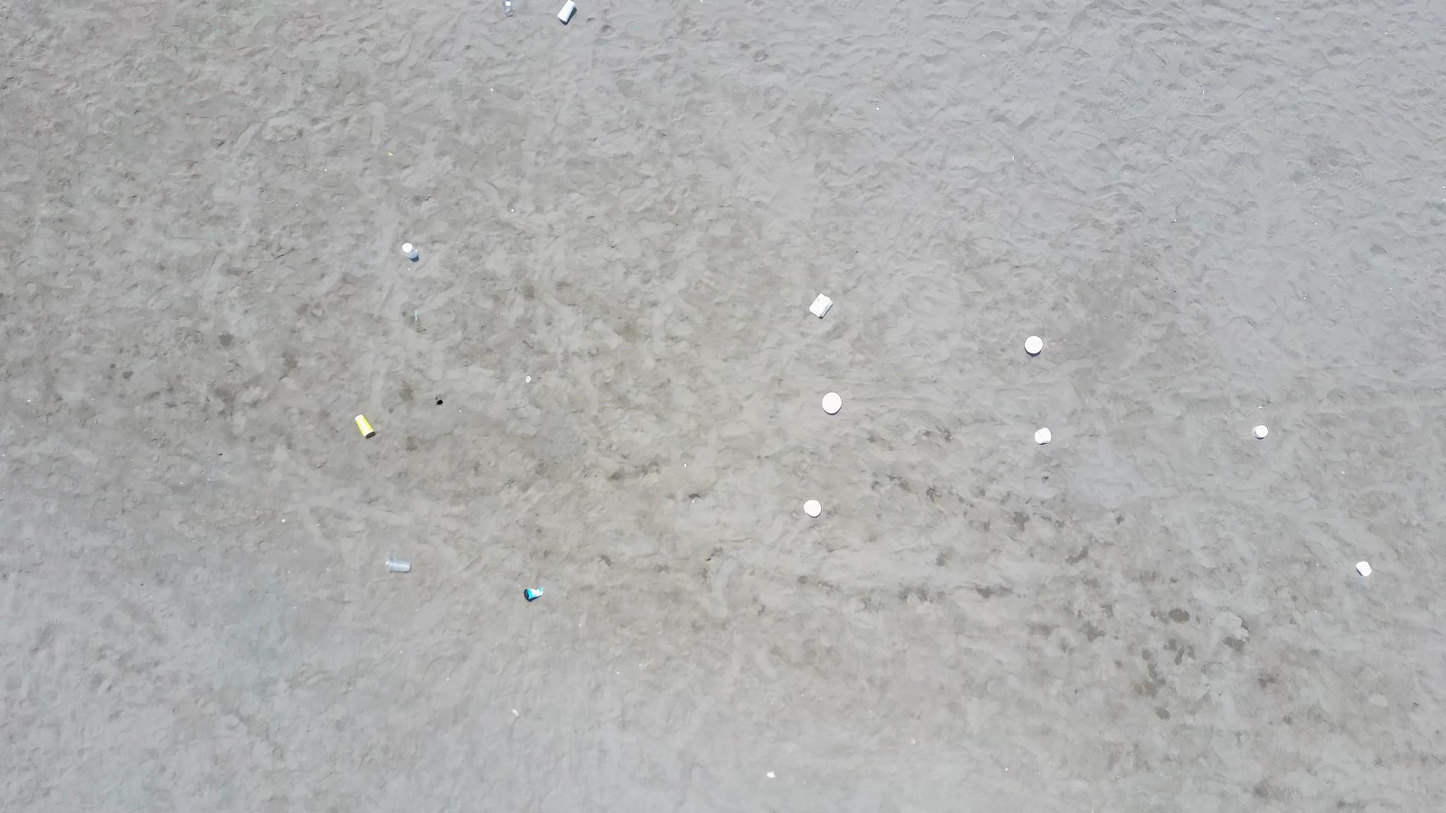Garbage: (808, 293, 832, 317), (820, 391, 841, 414), (355, 415, 375, 437), (557, 0, 576, 23), (385, 557, 411, 572), (1024, 337, 1042, 356), (1034, 427, 1051, 444), (401, 242, 417, 260), (803, 499, 818, 517), (523, 589, 543, 601), (1354, 560, 1370, 575), (1253, 426, 1267, 438), (503, 0, 513, 16), (766, 771, 774, 778), (524, 375, 531, 382)
